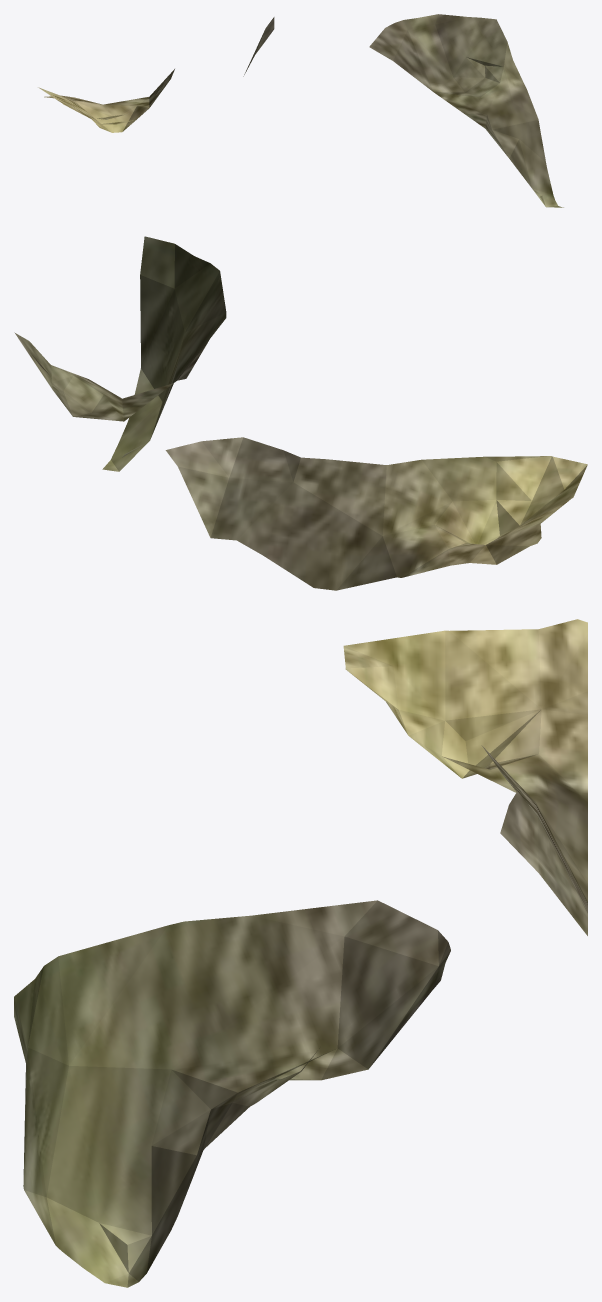
3 renders of one model, top to bottom at view 1: azimuth 30°, elevation 25°; view 2: azimuth 150°, elevation 25°; view 3: azimuth 270°, elevation 25°, orthographic. The views are drawn at different scales.
Size of the model in its own units: 2.95 by 0.939 by 1.8.
Materials: 1 (1 with a texture image).
